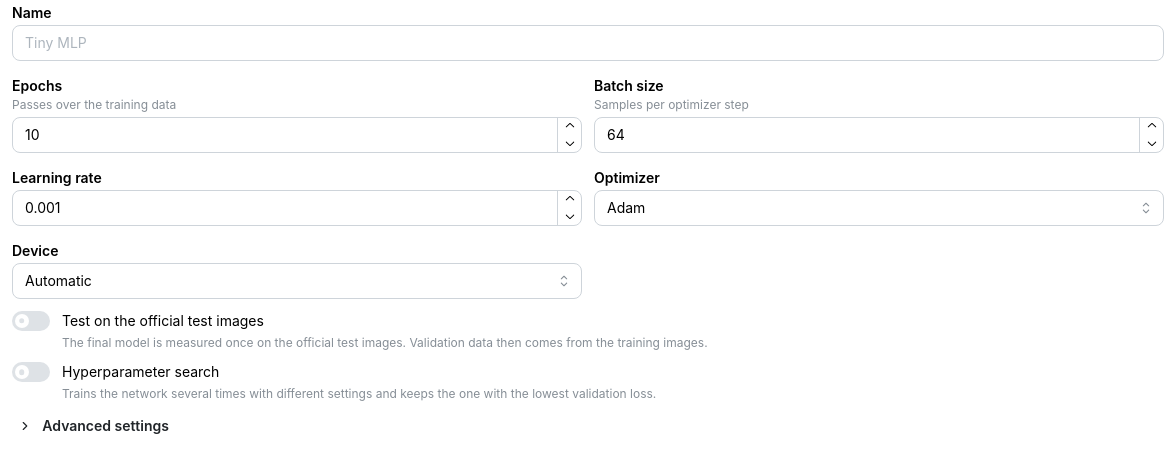
Test: SettingsForm › offers the official test images of built-in datasets
Expected: the field labelled "Validation split" is not shown
Click the switch labelled "official test images" at {"x": 31, "y": 321}, box [12,311,708,350]
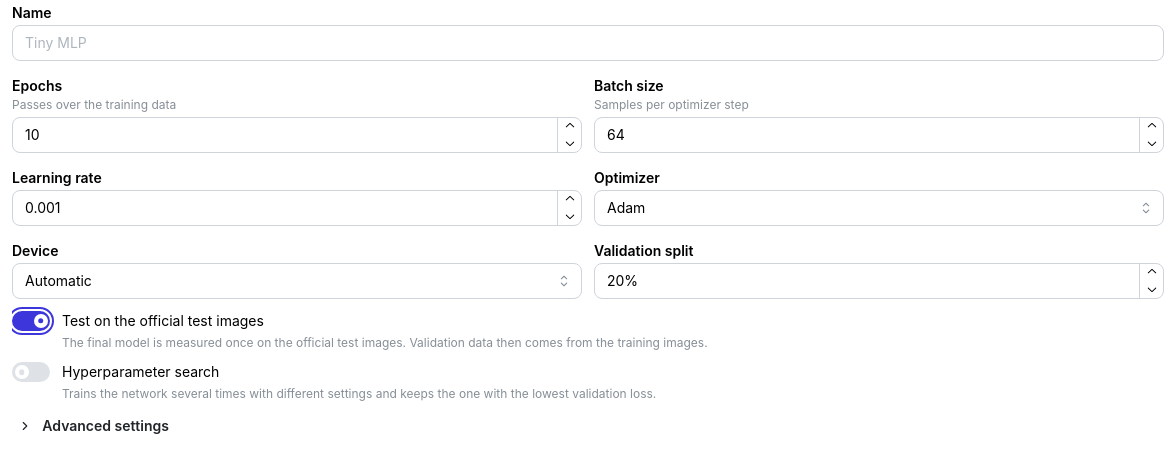
Expected: the field labelled "Validation split" is shown, [594,263,1164,299]
